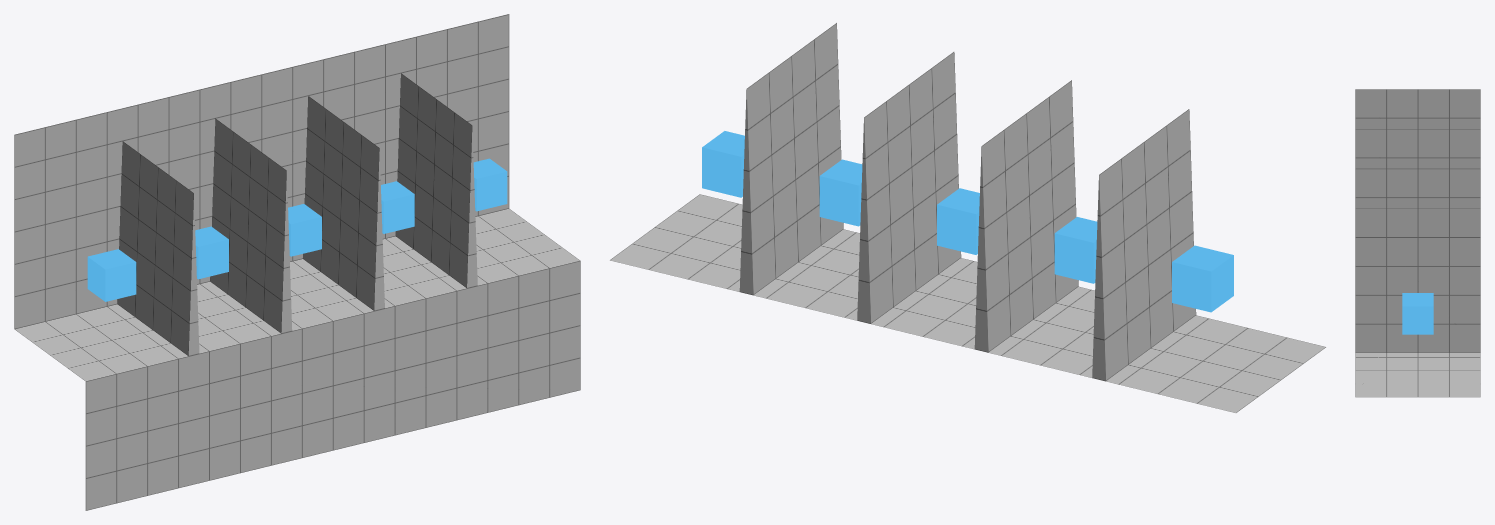
Rendered from EmissiveStrengthTestLOD.glb.
3 renders of one model, left to right at view 1: azimuth 30°, elevation 25°; view 2: azimuth 150°, elevation 25°; view 3: azimuth 270°, elevation 25°, orthographic. The views are drawn at different scales.
Visible parts, largest first — view 1: MeterGrid, Cube1, Cube16, Cube8, Cube4, Cube2; view 2: MeterGrid, Cube1, Cube2, Cube8, Cube4, Cube16; view 3: MeterGrid, Cube16.
Boxes of the visible parts, x1,y1,x2,y2 form: MeterGrid: (14,14,580,510); Cube1: (87,249,136,301); Cube16: (473,158,507,211); Cube8: (381,181,414,233); Cube4: (288,204,321,256); Cube2: (195,226,228,279); MeterGrid: (610,23,1325,412); Cube1: (1172,245,1233,312); Cube2: (1054,217,1097,283); Cube8: (819,159,862,226); Cube4: (937,188,979,254); Cube16: (702,131,744,197); MeterGrid: (1355,89,1480,397); Cube16: (1402,293,1433,334).
Bounding box in the file's own units: 16 × 10.01 × 4.
6 materials, 1 textured.
